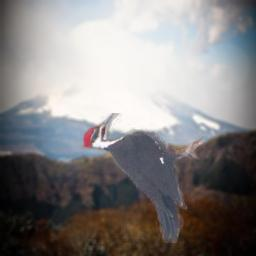Woodpecker: (80, 113, 203, 243)
